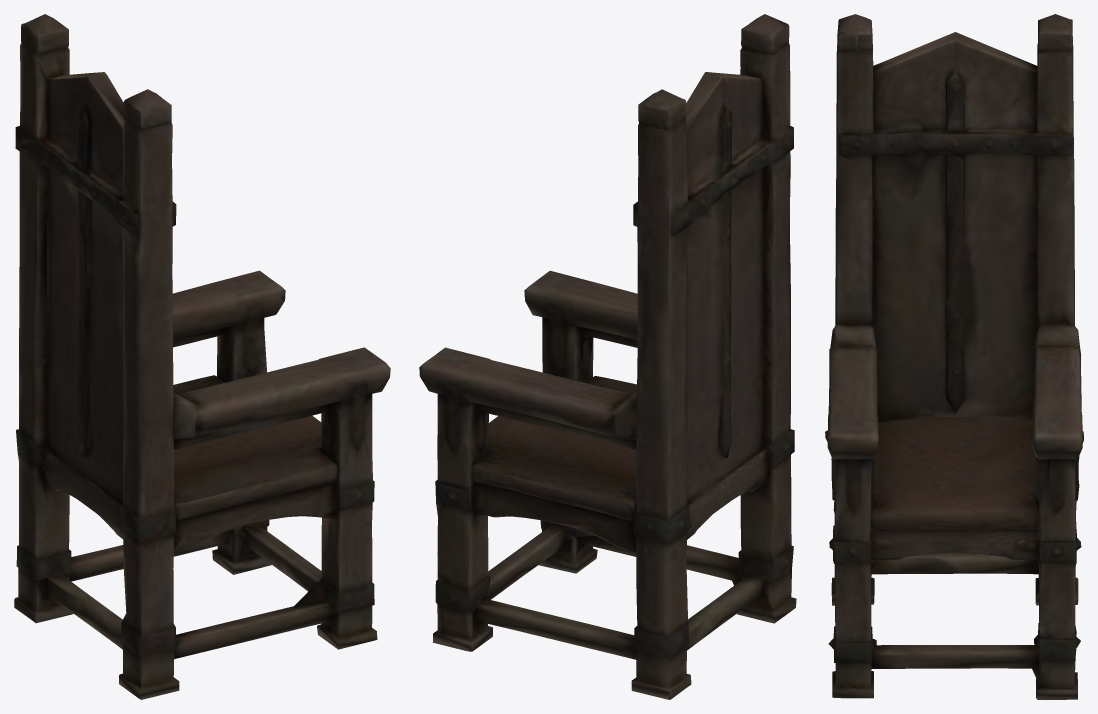
File: high-backed-chair.glb
3 renders of one model, left to right at view 1: azimuth 30°, elevation 25°; view 2: azimuth 150°, elevation 25°; view 3: azimuth 270°, elevation 25°, orthographic. The views are drawn at different scales.
Visible parts, largest first — view 1: tripo_node_9832a5d8-680a-4f43-b631-c09e0c701adc; view 2: tripo_node_9832a5d8-680a-4f43-b631-c09e0c701adc; view 3: tripo_node_9832a5d8-680a-4f43-b631-c09e0c701adc.
Boxes of the visible parts, x1,y1,x2,y2 form: tripo_node_9832a5d8-680a-4f43-b631-c09e0c701adc: [14, 14, 390, 699]; tripo_node_9832a5d8-680a-4f43-b631-c09e0c701adc: [419, 14, 796, 699]; tripo_node_9832a5d8-680a-4f43-b631-c09e0c701adc: [825, 14, 1083, 699].
Size of the model in its own units: 0.4479 by 1 by 0.4026.
Materials: 1 (1 with a texture image).
